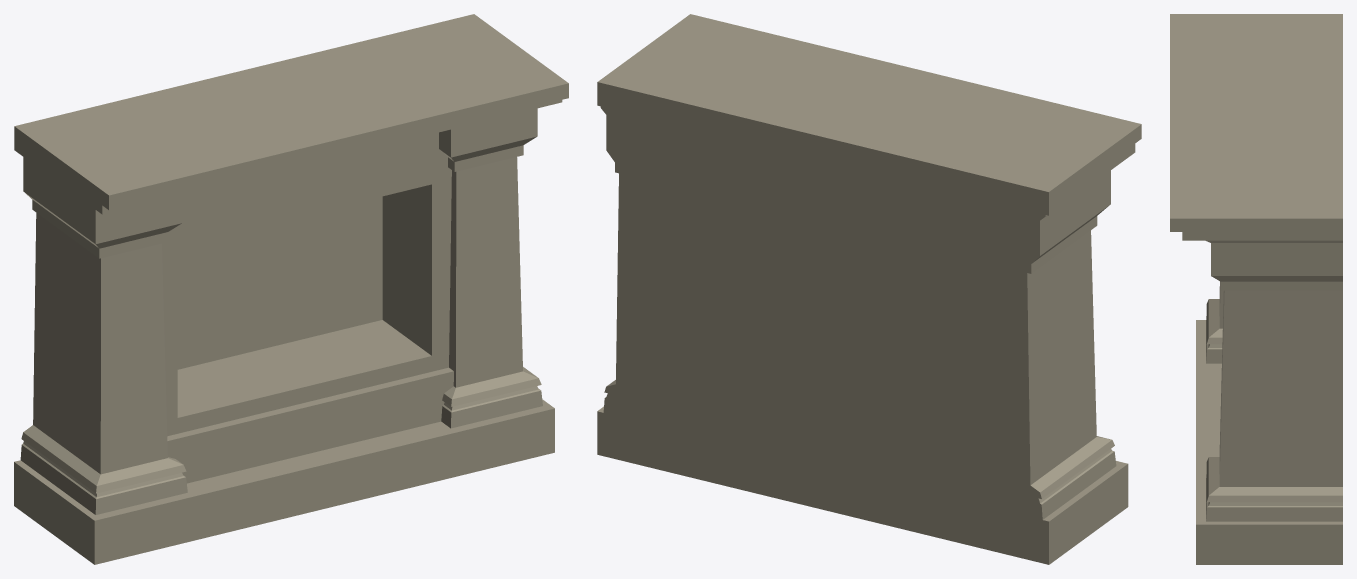
File: Fireplace.glb
3 views of the same model, side by side, from view 1: azimuth 30°, elevation 25°; view 2: azimuth 150°, elevation 25°; view 3: azimuth 270°, elevation 25° (orthographic). The views are drawn at different scales.
Visible parts, largest first — view 1: Fireplace_Cube.089; view 2: Fireplace_Cube.089; view 3: Fireplace_Cube.089.
Part boxes in pixels (x1=…): Fireplace_Cube.089: x1=14, y1=14, x2=568, y2=564; Fireplace_Cube.089: x1=597, y1=14, x2=1141, y2=564; Fireplace_Cube.089: x1=1170, y1=14, x2=1342, y2=564.
Size of the model in its own units: 3.25 by 2.56 by 1.16.
